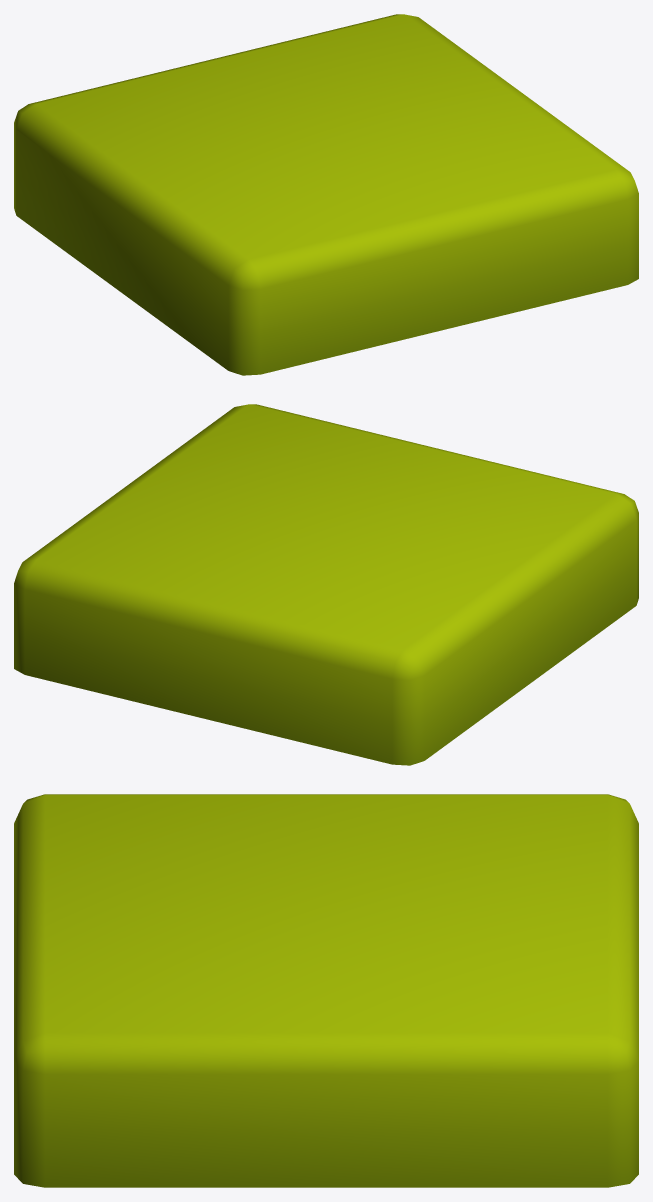
Rendered from 3D_Tile_Top_01.glb.
The picture shows the model from 3 angles, top to bottom: view 1: azimuth 30°, elevation 25°; view 2: azimuth 150°, elevation 25°; view 3: azimuth 270°, elevation 25°; orthographic projection. The views are drawn at different scales.
Parts seen in each view (by area): view 1: 3D_Tile_Top_01; view 2: 3D_Tile_Top_01; view 3: 3D_Tile_Top_01.
Part boxes in pixels (bbox=[...]): 3D_Tile_Top_01: bbox=[14, 14, 638, 375]; 3D_Tile_Top_01: bbox=[14, 404, 638, 765]; 3D_Tile_Top_01: bbox=[14, 794, 638, 1187].
Bounding box in the file's own units: 2 × 0.5 × 2.
Materials: 1 (1 with a texture image).
